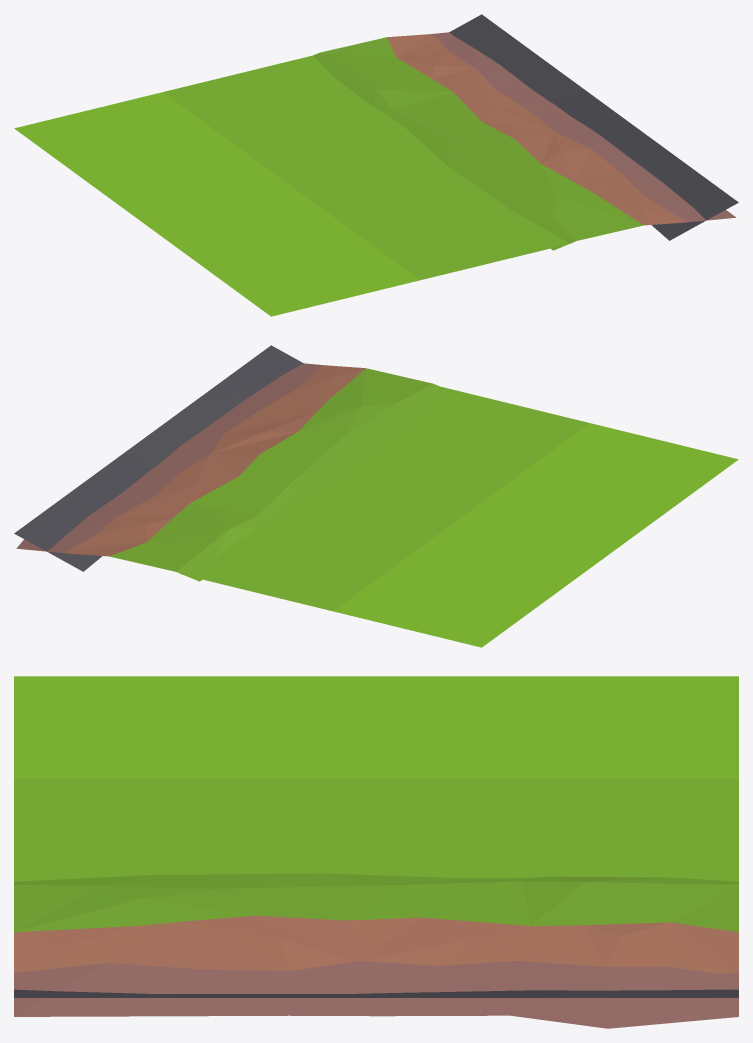
The model's file is sidewalk_forest_1_2.fbx.
The picture shows the model from 3 angles, top to bottom: view 1: azimuth 30°, elevation 25°; view 2: azimuth 150°, elevation 25°; view 3: azimuth 270°, elevation 25°; orthographic projection. The views are drawn at different scales.
Visible parts, largest first — view 1: sidewalk_forest_1_2; view 2: sidewalk_forest_1_2; view 3: sidewalk_forest_1_2.
Part boxes in pixels (box(x1,y1,x2,y2)): sidewalk_forest_1_2: box(14, 14, 738, 316); sidewalk_forest_1_2: box(14, 345, 738, 647); sidewalk_forest_1_2: box(14, 676, 738, 1028).
Size of the model in its own units: 1080 by 55.82 by 1000.
